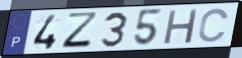3: (98, 10, 129, 49)
4: (31, 13, 58, 51)
5: (132, 8, 165, 49)
C: (197, 7, 231, 44)
H: (162, 7, 201, 46)
Z: (60, 10, 101, 50)
